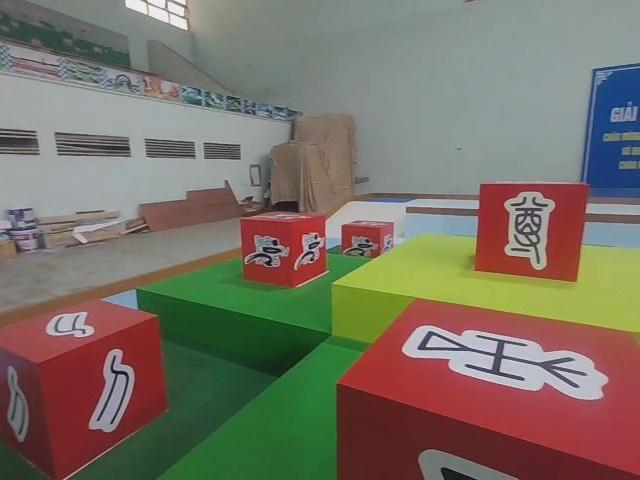R1: (241, 211, 327, 288), (339, 217, 397, 262)
R2 Fake: (473, 181, 591, 283)
R2 Real: (338, 299, 640, 480), (0, 294, 169, 480)
